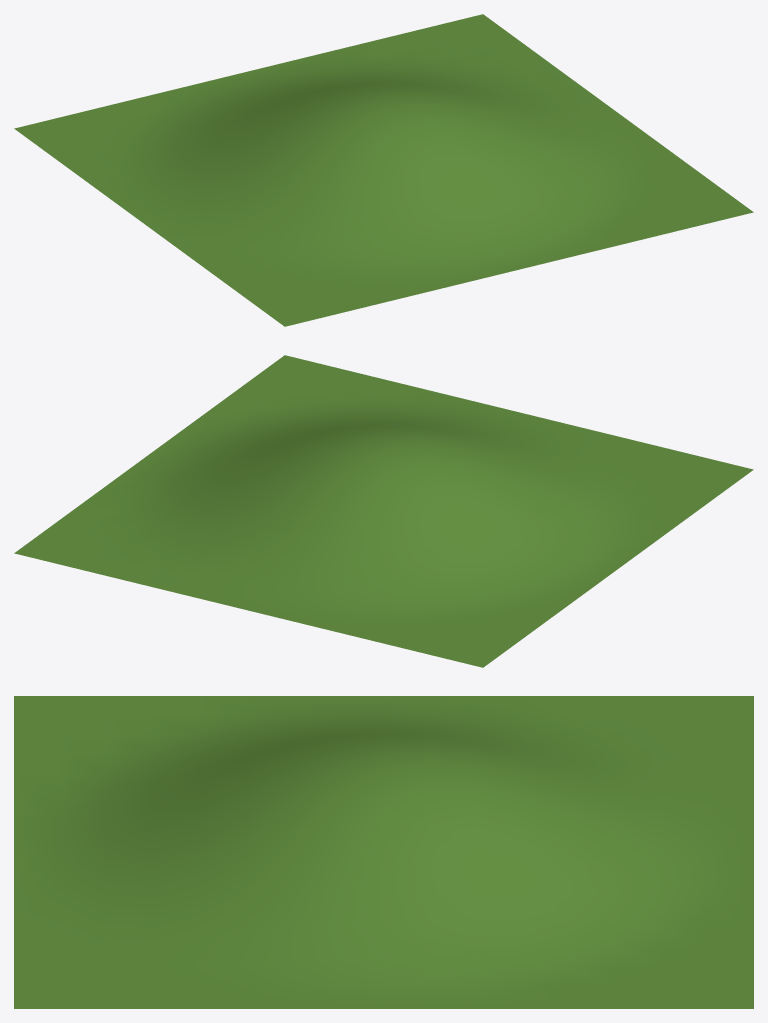
The model's file is mound.gltf.
3 views of the same model, one above another, from view 1: azimuth 30°, elevation 25°; view 2: azimuth 150°, elevation 25°; view 3: azimuth 270°, elevation 25° (orthographic). The views are drawn at different scales.
Parts seen in each view (by area): view 1: mound; view 2: mound; view 3: mound.
Boxes of the visible parts, left/top/right/bottom form: mound: left=14, top=14, right=753, bottom=326; mound: left=14, top=355, right=753, bottom=667; mound: left=14, top=696, right=753, bottom=1008.
Size of the model in its own units: 10 by 1.2 by 10.
